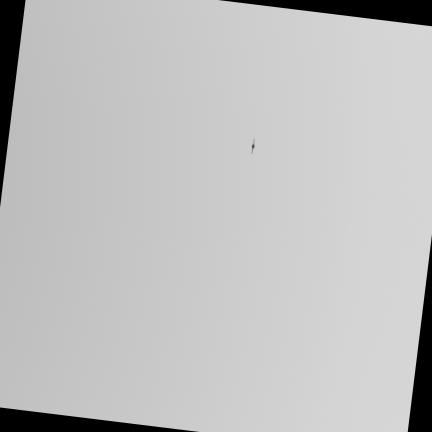Shahed: (251, 137, 255, 152)
